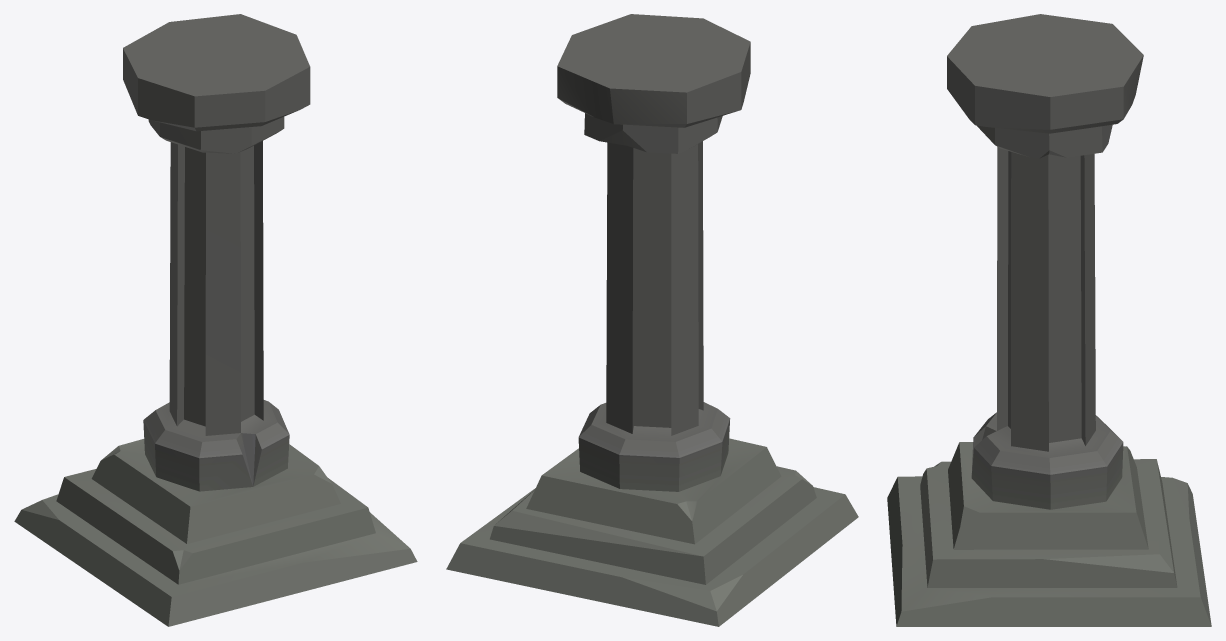
The model's file is EA_Bld_Column_01b.gltf.
3 renders of one model, left to right at view 1: azimuth 30°, elevation 25°; view 2: azimuth 150°, elevation 25°; view 3: azimuth 270°, elevation 25°, orthographic. The views are drawn at different scales.
Parts seen in each view (by area): view 1: EA_Bld_Column_01b; view 2: EA_Bld_Column_01b; view 3: EA_Bld_Column_01b.
Part boxes in pixels (bbox=[...]): EA_Bld_Column_01b: bbox=[14, 14, 417, 626]; EA_Bld_Column_01b: bbox=[446, 14, 858, 626]; EA_Bld_Column_01b: bbox=[887, 14, 1211, 626].
Bounding box in the file's own units: 5.16 × 9.15 × 5.32.
Materials: 1 (1 with a texture image).
